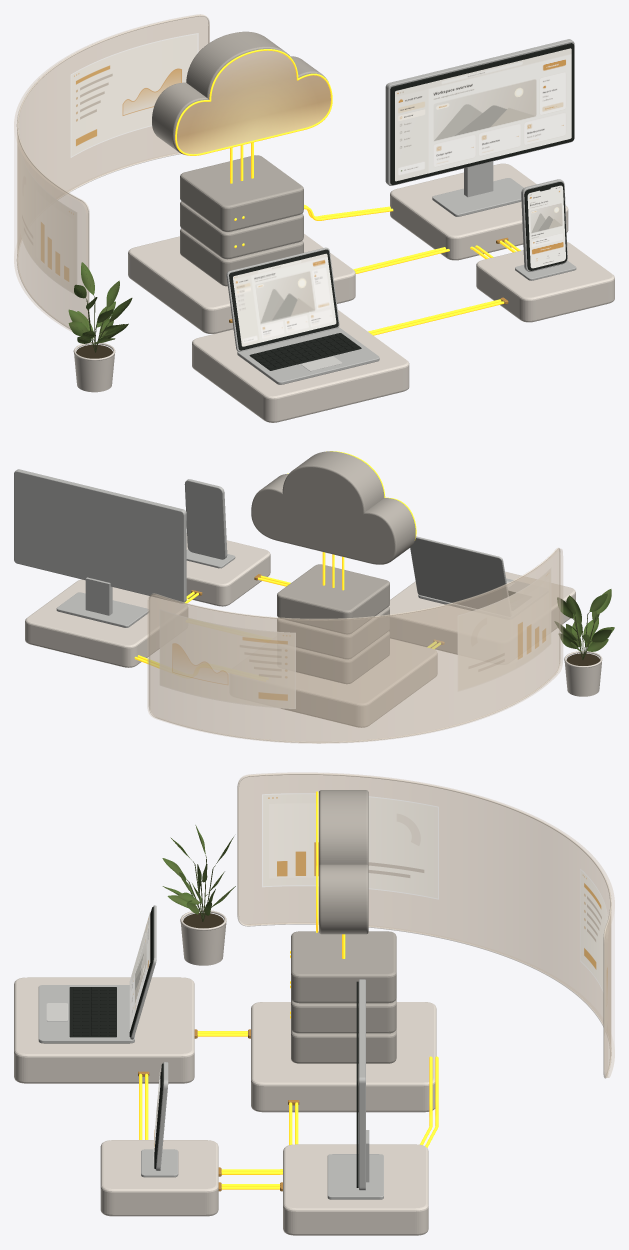
The model's file is cloud.glb.
3 views of the same model, one above another, from view 1: azimuth 30°, elevation 25°; view 2: azimuth 150°, elevation 25°; view 3: azimuth 270°, elevation 25° (orthographic). The views are drawn at different scales.
Bounding box in the file's own units: 14.86 × 6.05 × 12.
21 materials, 6 textured.
